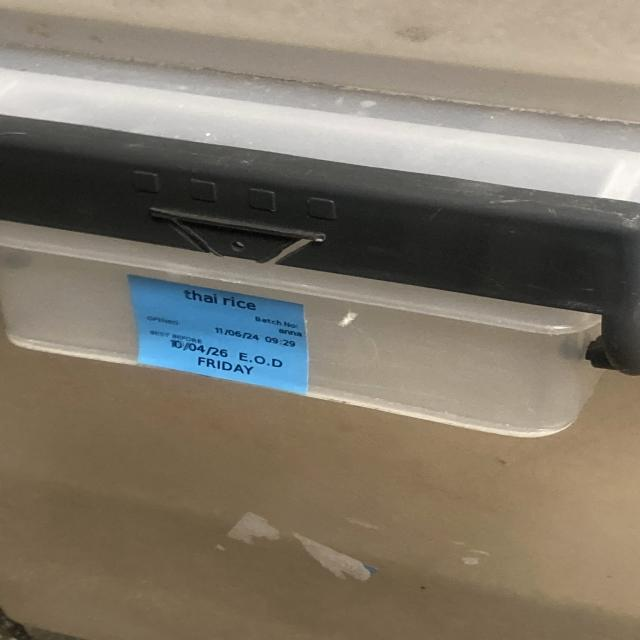product-labels: (112, 277, 322, 398)
